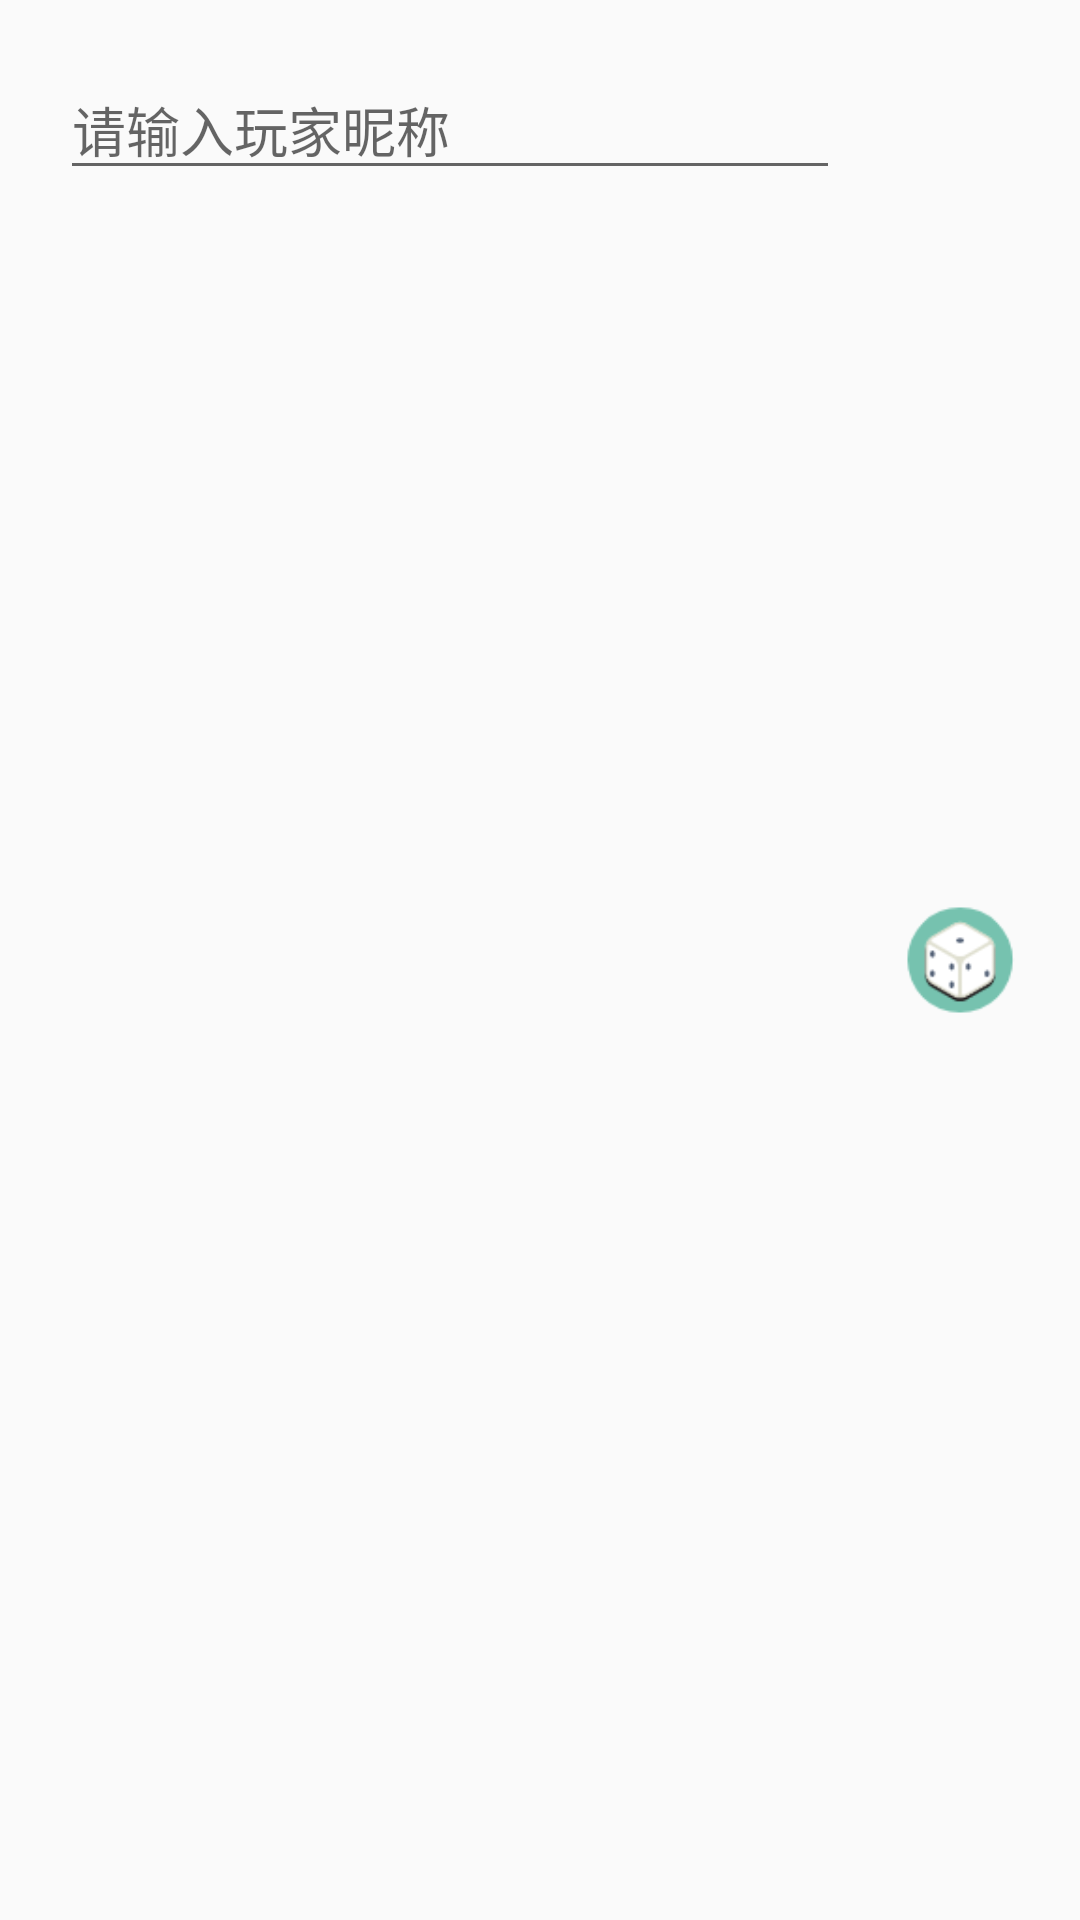

Screen size 1080px×1920px. Icon name, then its center in pixels as point (x, y):
random: point (960, 960)
